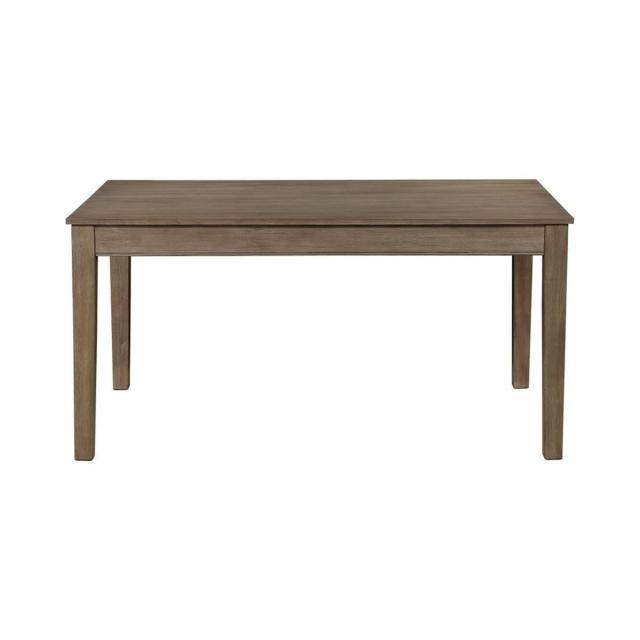table: (51, 156, 604, 492)
